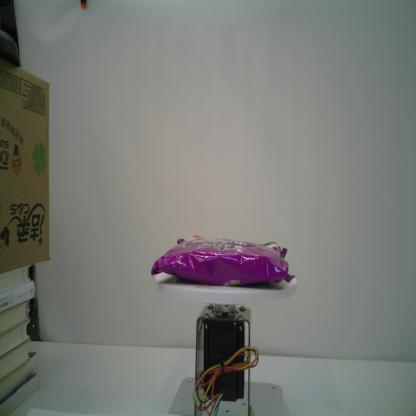Instant Noodles: (150, 233, 297, 287)
